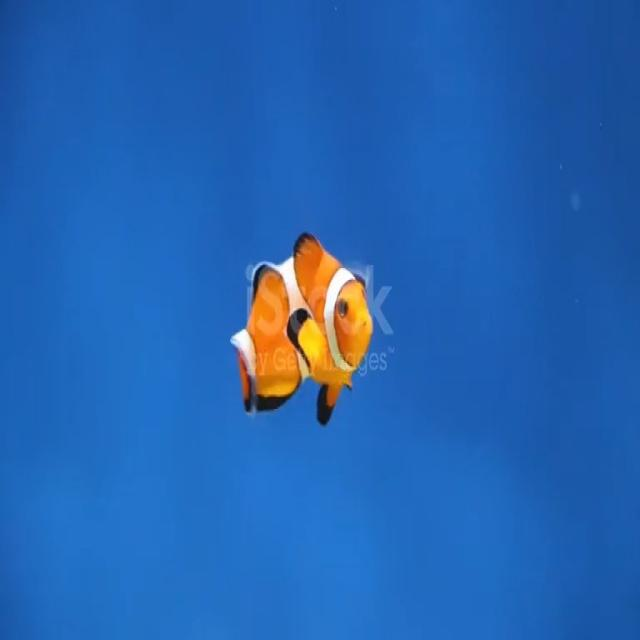fish: (232, 224, 373, 445)
